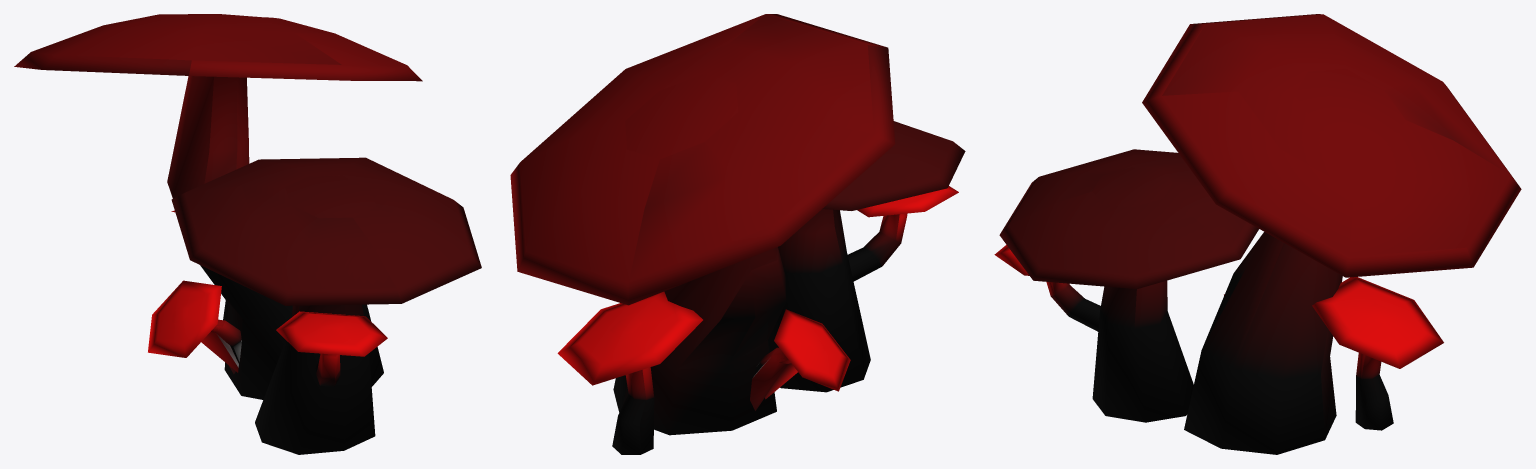
File: mushroom_01_b.dae
3 views of the same model, side by side, from view 1: azimuth 30°, elevation 25°; view 2: azimuth 150°, elevation 25°; view 3: azimuth 270°, elevation 25° (orthographic). The views are drawn at different scales.
Parts seen in each view (by area): view 1: mushroombb256, mushroombb128; view 2: mushroombb256, mushroombb128; view 3: mushroombb256, mushroombb128.
Part boxes in pixels (x1,y1,x2,y2): mushroombb256: (31,14,470,378); mushroombb128: (14,14,481,454); mushroombb256: (520,14,958,454); mushroombb128: (510,14,965,454); mushroombb256: (994,14,1510,430); mushroombb128: (999,14,1521,454).
Size of what is drawn, in the model's own units: 2.63 by 3.57 by 2.51.
